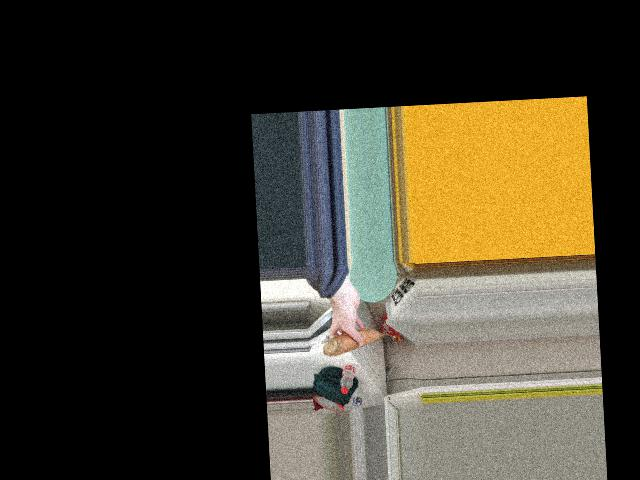sweet_potato: (322, 331, 386, 352)
